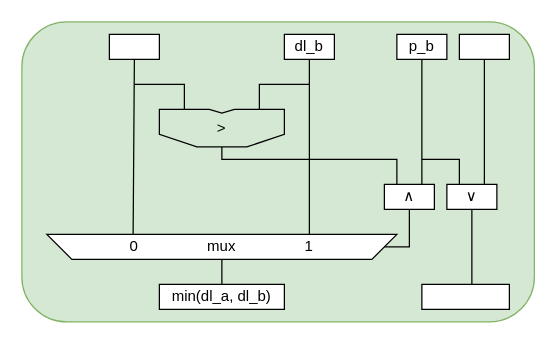
Image size: 556x344. Some labels were removed from this diagram. The box of each missing label's shape, as (x1, y1, x2, y2) in pixels:
dl_a: (108, 33, 159, 59)
p_a: (458, 33, 509, 59)
p_a ∨ b_b: (421, 283, 509, 309)
